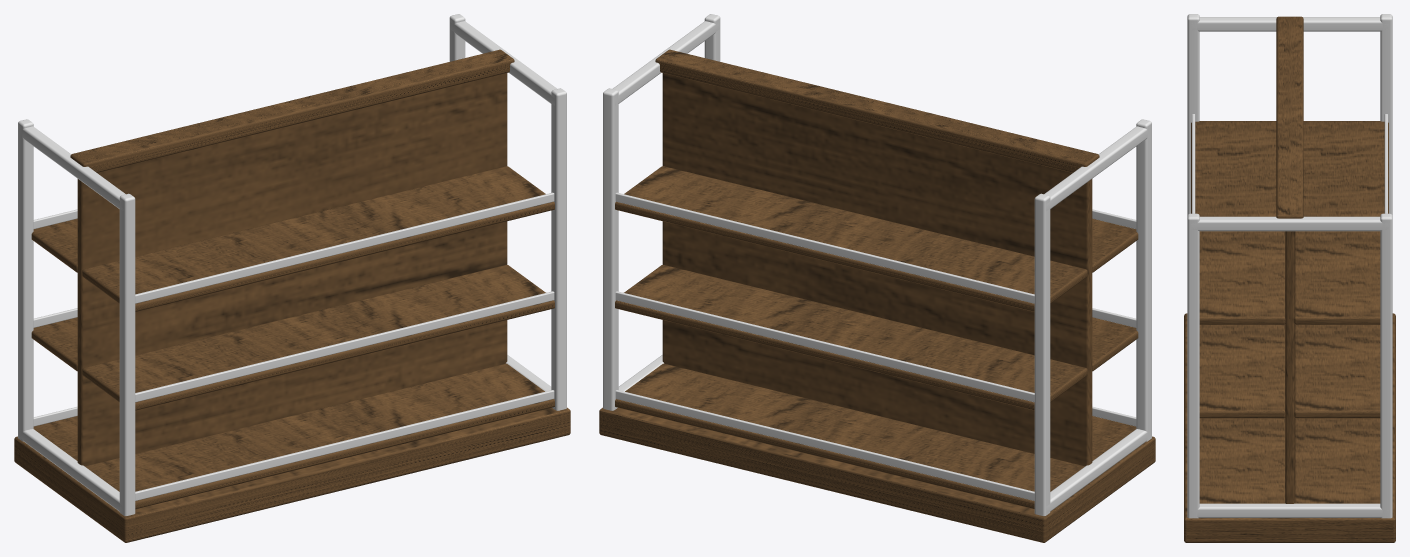
File: double_book_0.glb
3 views of the same model, side by side, from view 1: azimuth 30°, elevation 25°; view 2: azimuth 150°, elevation 25°; view 3: azimuth 270°, elevation 25° (orthographic). The views are drawn at different scales.
Parts seen in each view (by area): view 1: Structural centre spine, both faces merchandised, Three accessible shelves each side.005, Three accessible shelves each side.004, Three accessible shelves each side.003, Floor seated plinth, Top cap, below eye level, Open end upright.001, Open end upright.003, Open end upright, Face-out book retaining lip.004, Face-out book retaining lip.005, Face-out book retaining lip.003 (+6 smaller); view 2: Structural centre spine, both faces merchandised, Three accessible shelves each side.002, Three accessible shelves each side.001, Three accessible shelves each side, Floor seated plinth, Top cap, below eye level, Open end upright, Open end upright.002, Open end upright.001, Face-out book retaining lip.001, Face-out book retaining lip.002, Face-out book retaining lip (+6 smaller); view 3: Three accessible shelves each side.002, Three accessible shelves each side.005, Three accessible shelves each side.001, Three accessible shelves each side.004, Three accessible shelves each side, Three accessible shelves each side.003, Floor seated plinth, Top cap, below eye level, Open end upright.002, Open end upright.003, Structural centre spine, both faces merchandised, End cross rail.003 (+6 smaller).
Boxes of the visible parts, <box> form: Structural centre spine, both faces merchandised: <box>77,54,507,466</box>; Three accessible shelves each side.005: <box>82,166,554,311</box>; Three accessible shelves each side.004: <box>82,265,554,410</box>; Three accessible shelves each side.003: <box>85,363,554,509</box>; Floor seated plinth: <box>14,407,570,542</box>; Top cap, below eye level: <box>70,49,514,172</box>; Open end upright.001: <box>119,193,135,515</box>; Open end upright.003: <box>551,88,566,410</box>; Open end upright: <box>18,119,33,441</box>; Face-out book retaining lip.004: <box>135,291,554,402</box>; Face-out book retaining lip.005: <box>135,192,554,303</box>; Face-out book retaining lip.003: <box>135,390,554,500</box>; Structural centre spine, both faces merchandised: <box>662,54,1092,466</box>; Three accessible shelves each side.002: <box>615,166,1087,311</box>; Three accessible shelves each side.001: <box>615,265,1087,410</box>; Three accessible shelves each side: <box>615,363,1084,509</box>; Floor seated plinth: <box>599,407,1155,542</box>; Top cap, below eye level: <box>655,49,1099,172</box>; Open end upright: <box>1034,193,1050,515</box>; Open end upright.002: <box>603,88,618,410</box>; Open end upright.001: <box>1136,119,1151,441</box>; Face-out book retaining lip.001: <box>615,291,1034,402</box>; Face-out book retaining lip.002: <box>615,192,1034,303</box>; Face-out book retaining lip: <box>615,390,1034,500</box>; Three accessible shelves each side.002: <box>1294,121,1388,324</box>; Three accessible shelves each side.005: <box>1191,121,1285,324</box>; Three accessible shelves each side.001: <box>1294,324,1380,418</box>; Three accessible shelves each side.004: <box>1199,324,1285,418</box>; Three accessible shelves each side: <box>1294,418,1380,503</box>; Three accessible shelves each side.003: <box>1199,418,1285,503</box>; Floor seated plinth: <box>1184,313,1395,542</box>; Top cap, below eye level: <box>1276,16,1303,218</box>; Open end upright.002: <box>1380,213,1392,518</box>; Open end upright.003: <box>1187,213,1199,518</box>; Structural centre spine, both faces merchandised: <box>1285,18,1294,503</box>; End cross rail.003: <box>1190,216,1389,231</box>.
Bounding box in the file's own units: 1.8 × 1.32 × 0.78.
2 materials, 1 textured.
